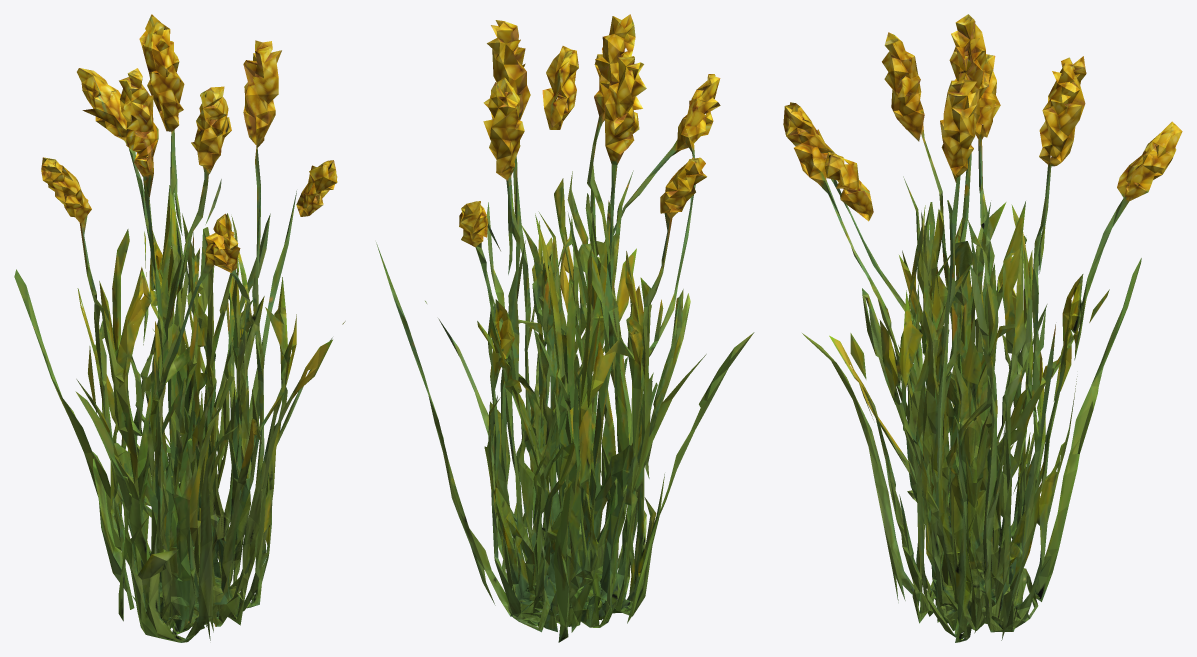
File: _Realistic_3D_model_o_0430163533_texture.obj
3 renders of one model, left to right at view 1: azimuth 30°, elevation 25°; view 2: azimuth 150°, elevation 25°; view 3: azimuth 270°, elevation 25°, orthographic.
Visible parts, largest first — view 1: _Realistic_3D_model_o_0430163533_texture; view 2: _Realistic_3D_model_o_0430163533_texture; view 3: _Realistic_3D_model_o_0430163533_texture.
Part boxes in pixels (x1,y1,x2,y2): _Realistic_3D_model_o_0430163533_texture: [14, 14, 345, 642]; _Realistic_3D_model_o_0430163533_texture: [376, 14, 754, 642]; _Realistic_3D_model_o_0430163533_texture: [783, 14, 1182, 642].
Size of the model in its own units: 0.9685 by 1.76 by 1.1.
Materials: 1 (1 with a texture image).
